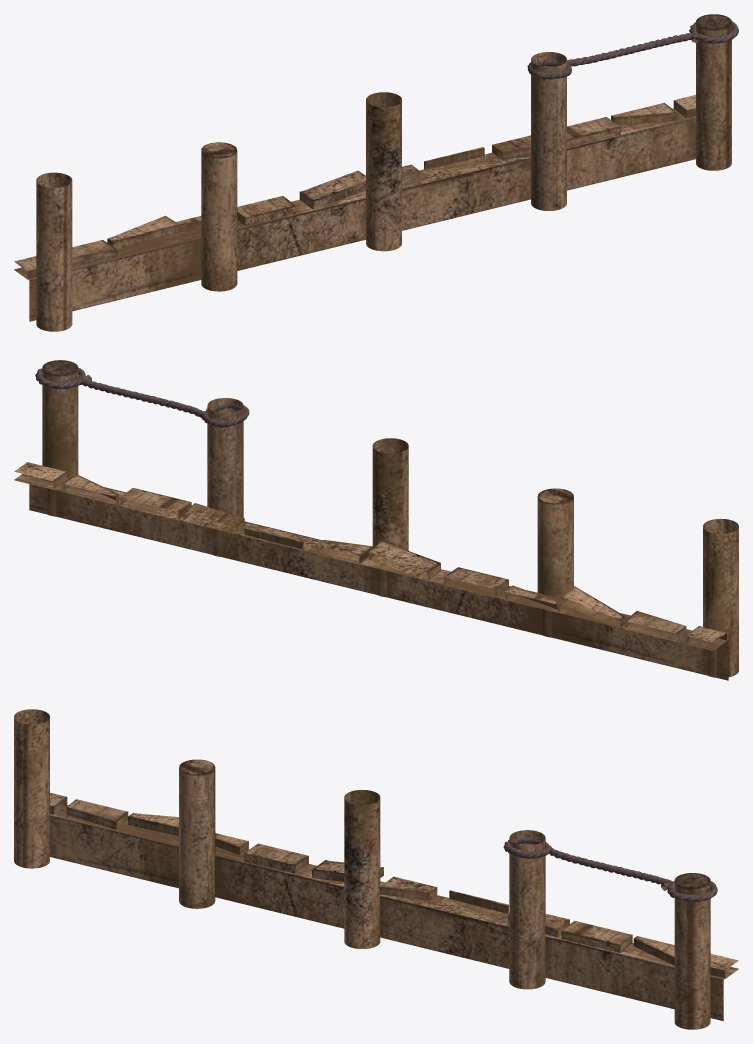
Rendered from ship-rail.glb.
The picture shows the model from 3 angles, top to bottom: view 1: azimuth 30°, elevation 25°; view 2: azimuth 150°, elevation 25°; view 3: azimuth 330°, elevation 25°; orthographic projection.
Parts seen in each view (by area): view 1: ship-rail; view 2: ship-rail; view 3: ship-rail.
Boxes of the visible parts, box(x1,y1,x2,y2) form: ship-rail: box(14, 14, 738, 331); ship-rail: box(14, 360, 738, 680); ship-rail: box(14, 709, 738, 1029).
Size of the model in its own units: 4.8 by 0.9449 by 0.4337.
1 material, 1 textured.
